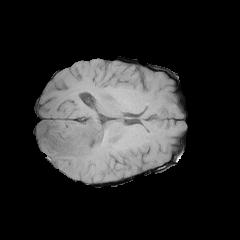glioma: (38, 110, 147, 176)
